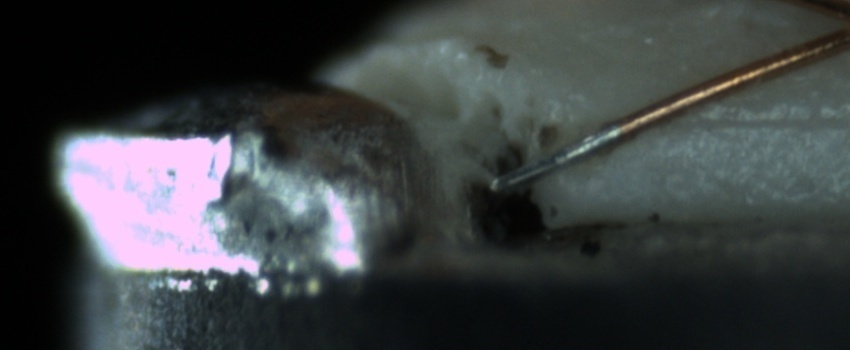CL: (827, 3, 850, 45)
DL: (674, 90, 848, 156)
TS: (488, 124, 622, 193)
TTCW: (487, 118, 639, 193)
